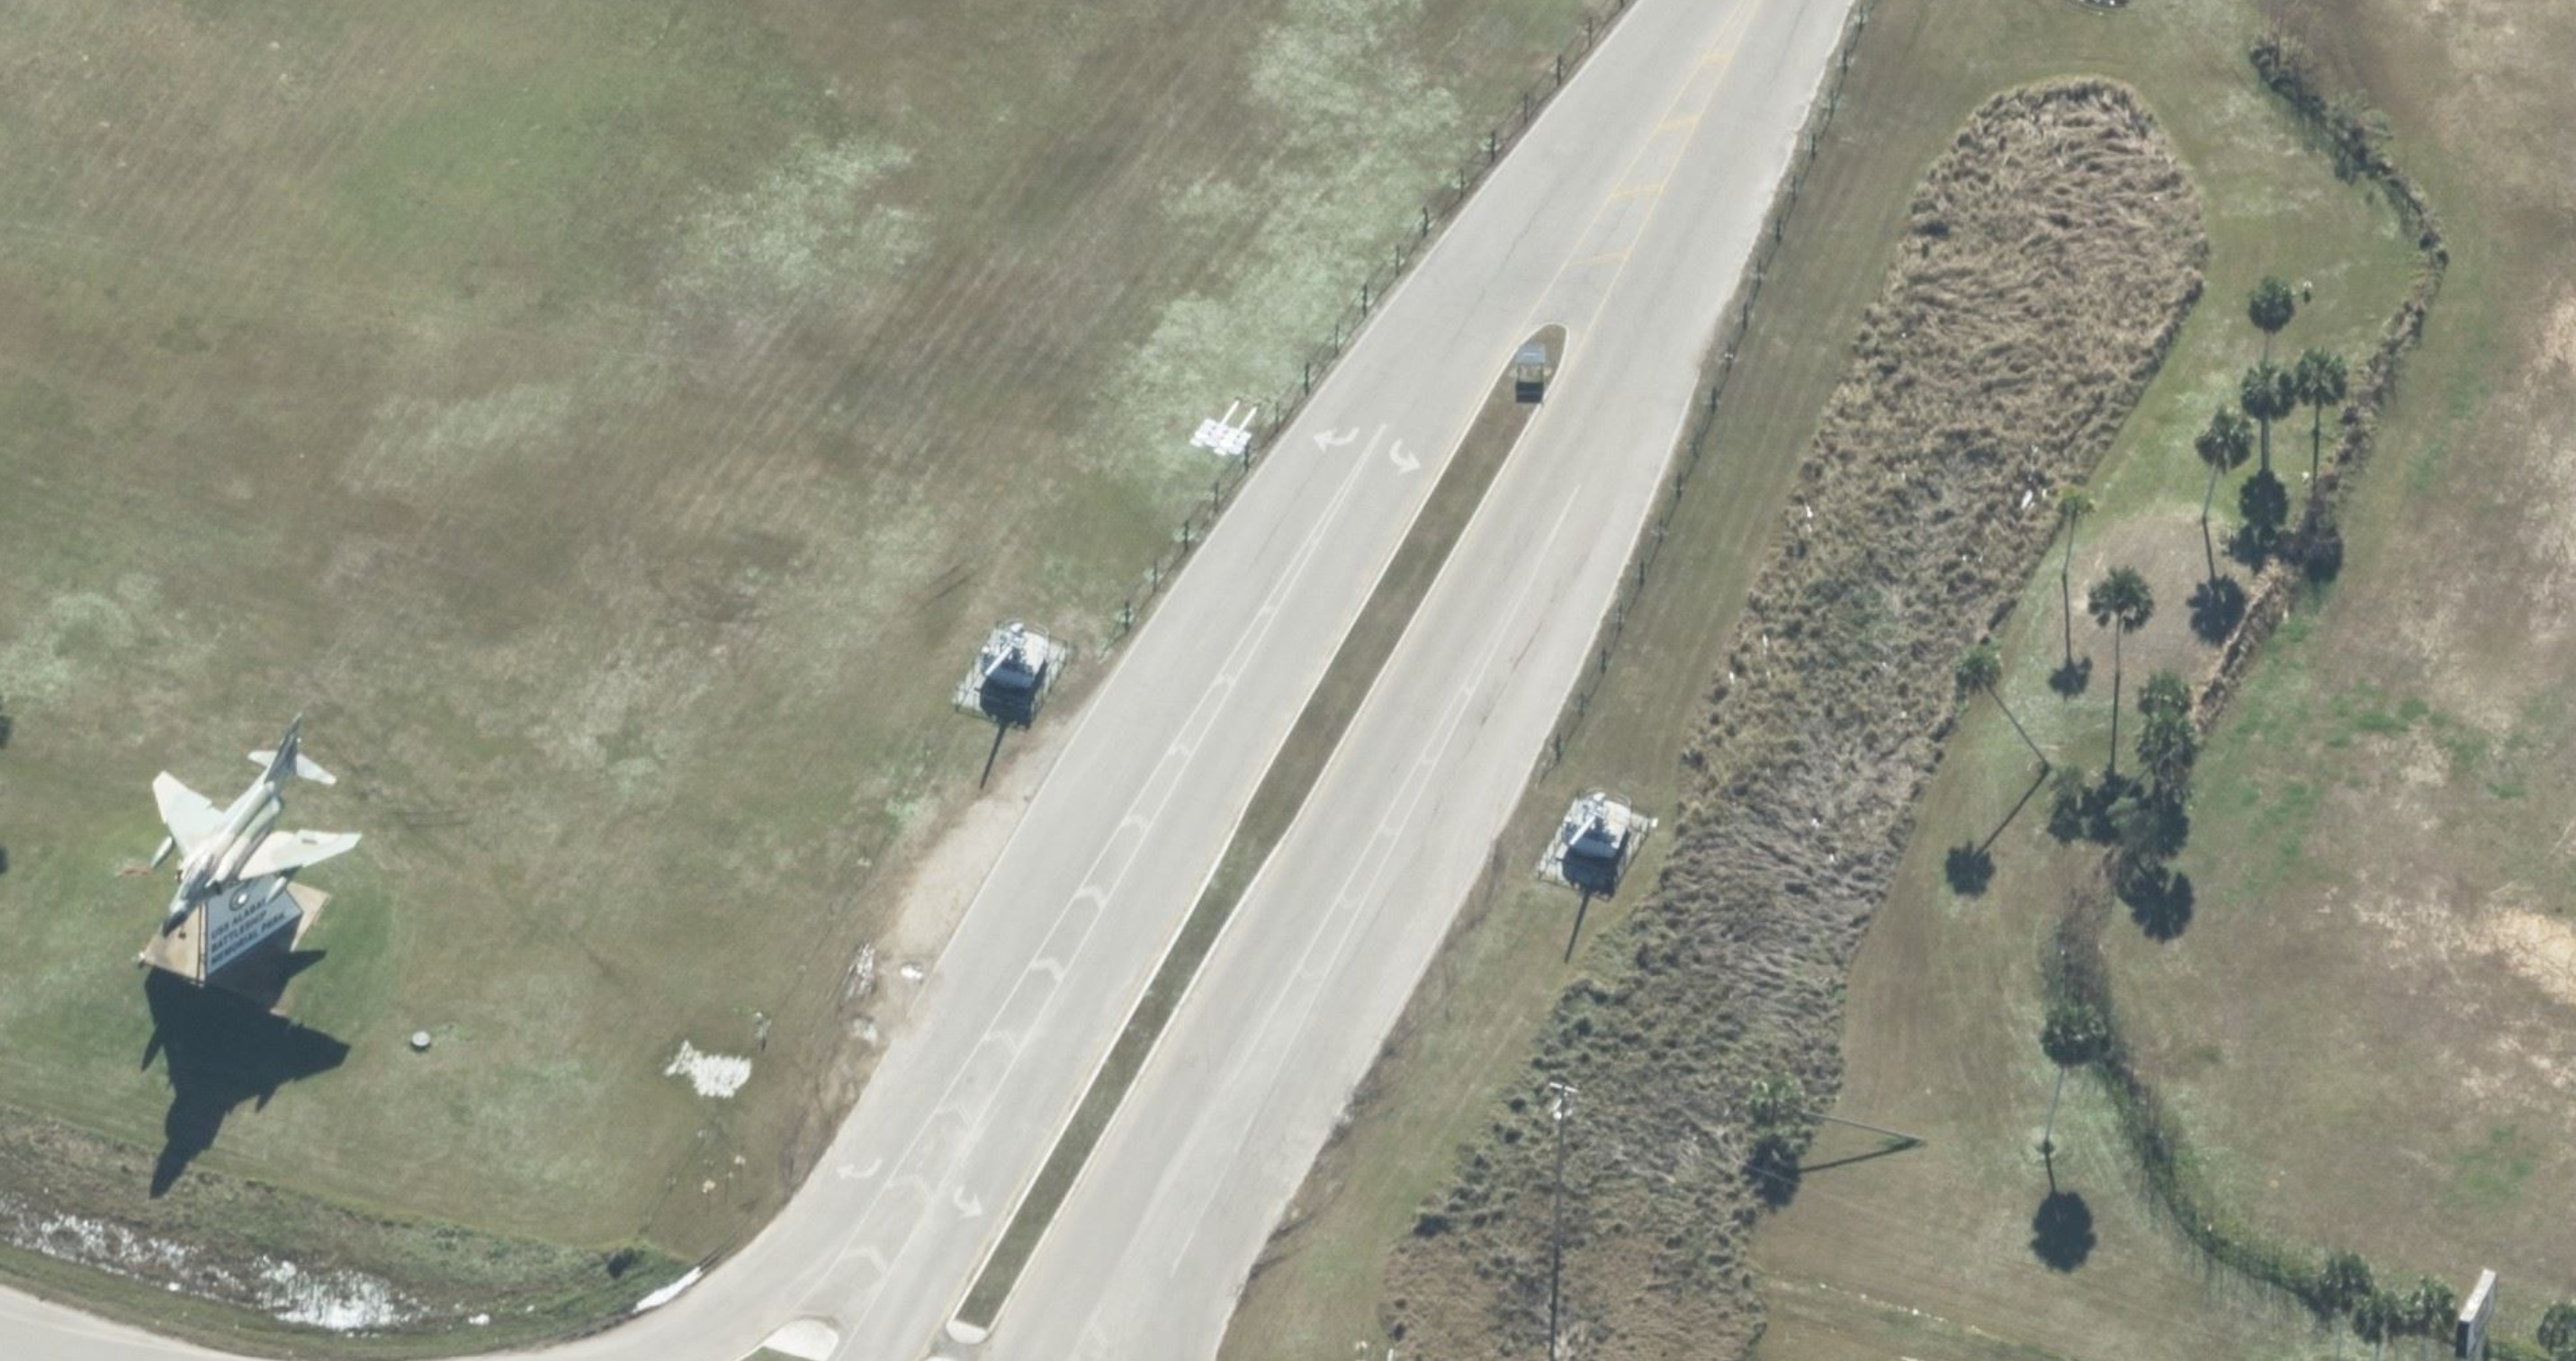F4: (148, 710, 363, 940)
